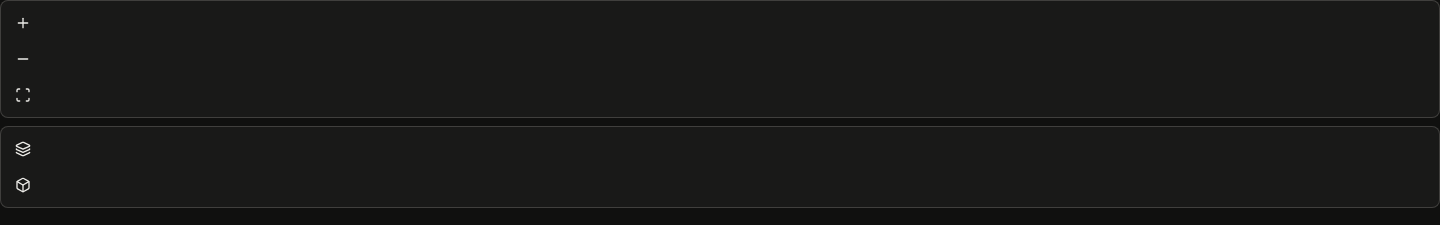
Scenario: shared 2D/3D controls › preserves mission config, both route results, assessments and paused simulation without recalculation
The image size is (1440, 225).
Click the button named "3D terrain view" at point(23, 185), box [5,167,41,203]
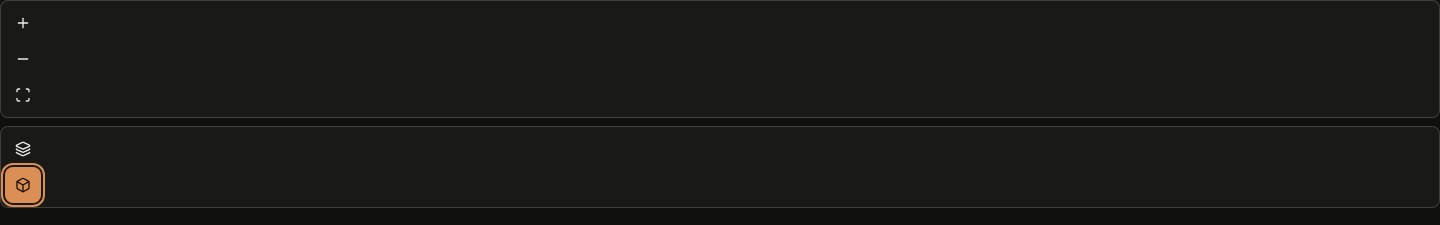
Check: the button named "3D terrain view" is pressed, box [5,167,41,203]
Type keys "[Space]"
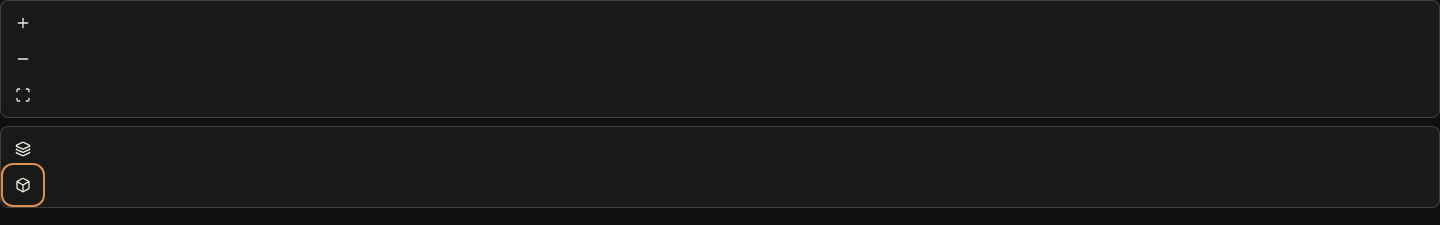
Check: the button named "3D terrain view" is not pressed, box [5,167,41,203]
